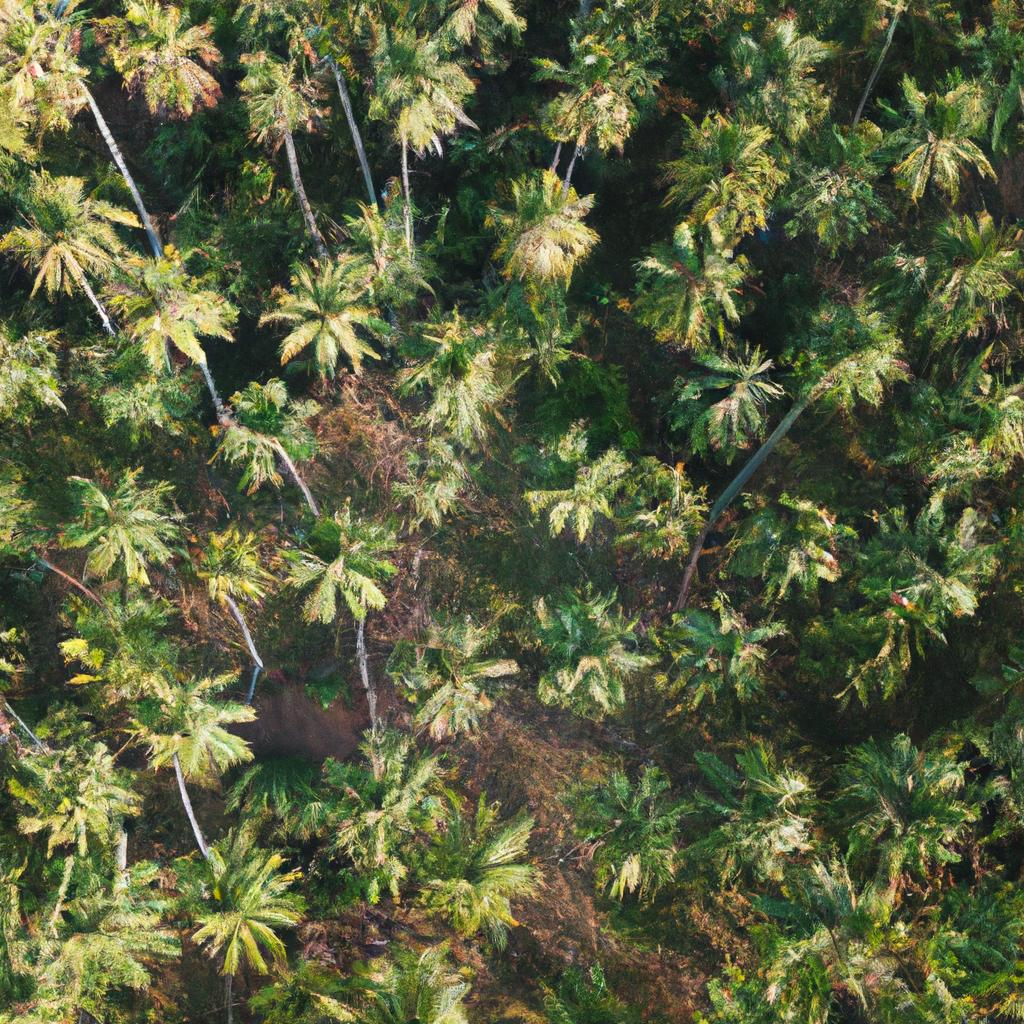coconut_tree: (531, 572, 681, 734), (554, 751, 704, 896), (378, 589, 521, 740), (178, 829, 308, 980), (43, 459, 199, 581), (483, 153, 615, 297), (321, 729, 450, 870), (256, 245, 399, 370), (11, 161, 129, 296), (216, 45, 326, 158)
